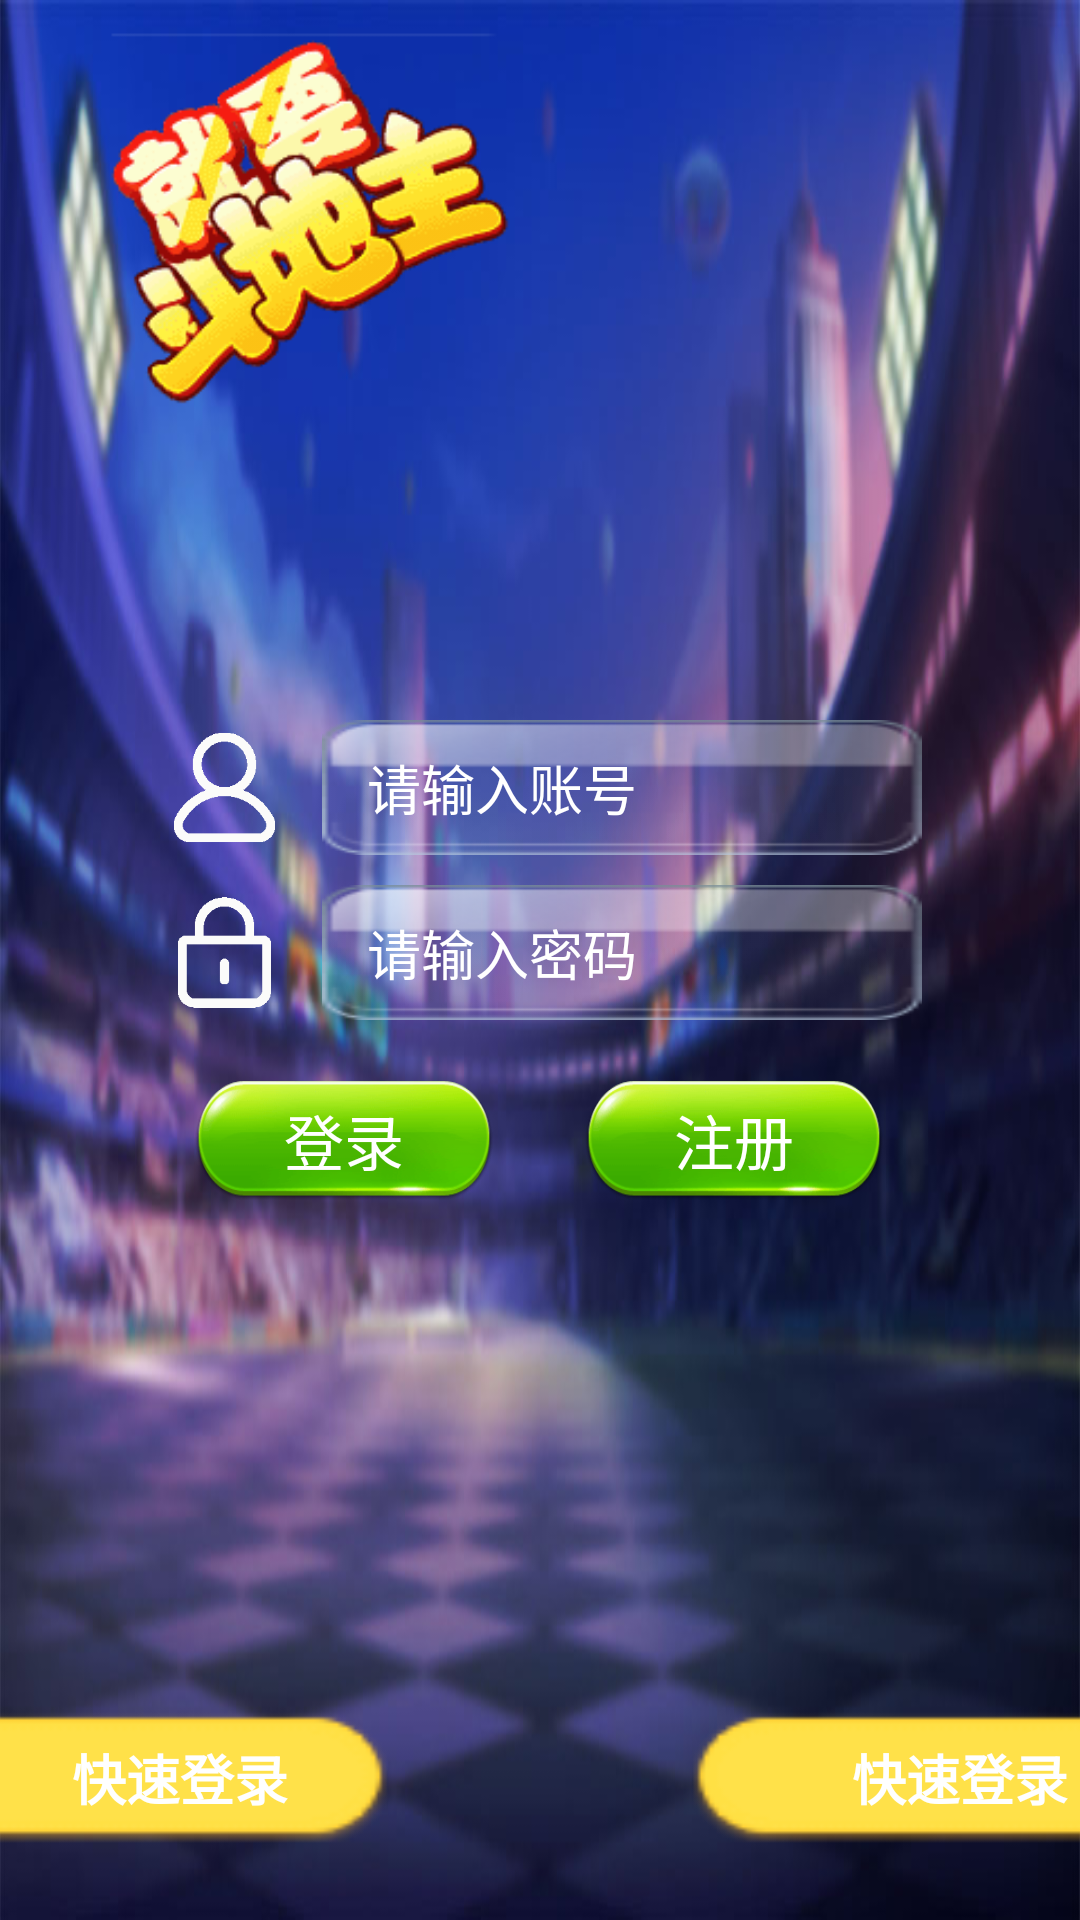

Where to tap for icons on this 1080*1920 app screen, as point (x, y):
password: point (224, 952)
user: point (224, 787)
